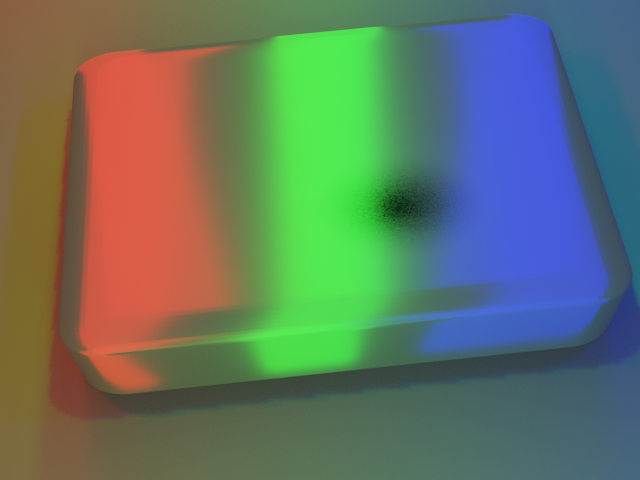stain: (280, 137, 526, 282)
